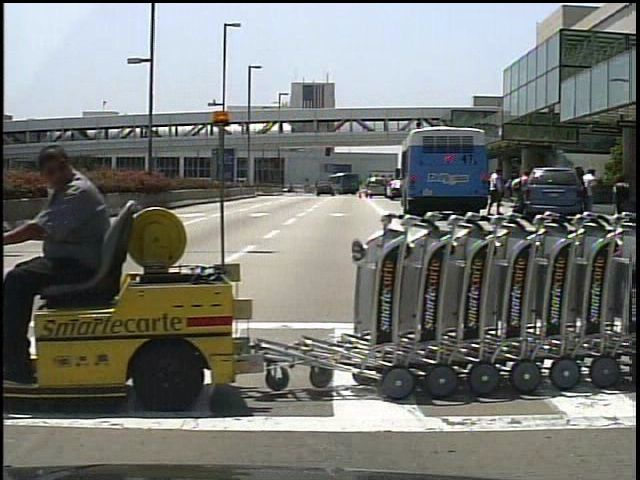person: (19, 145, 126, 384), (508, 167, 530, 220), (580, 165, 601, 214), (487, 166, 507, 217)
